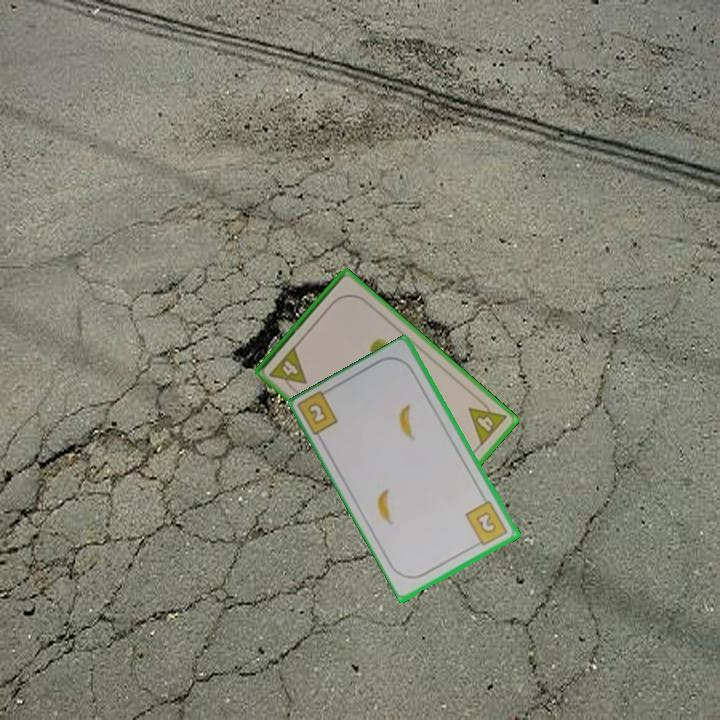2b: (462, 498, 511, 550), (296, 385, 341, 439)
4p: (465, 394, 510, 449), (266, 342, 310, 396)
